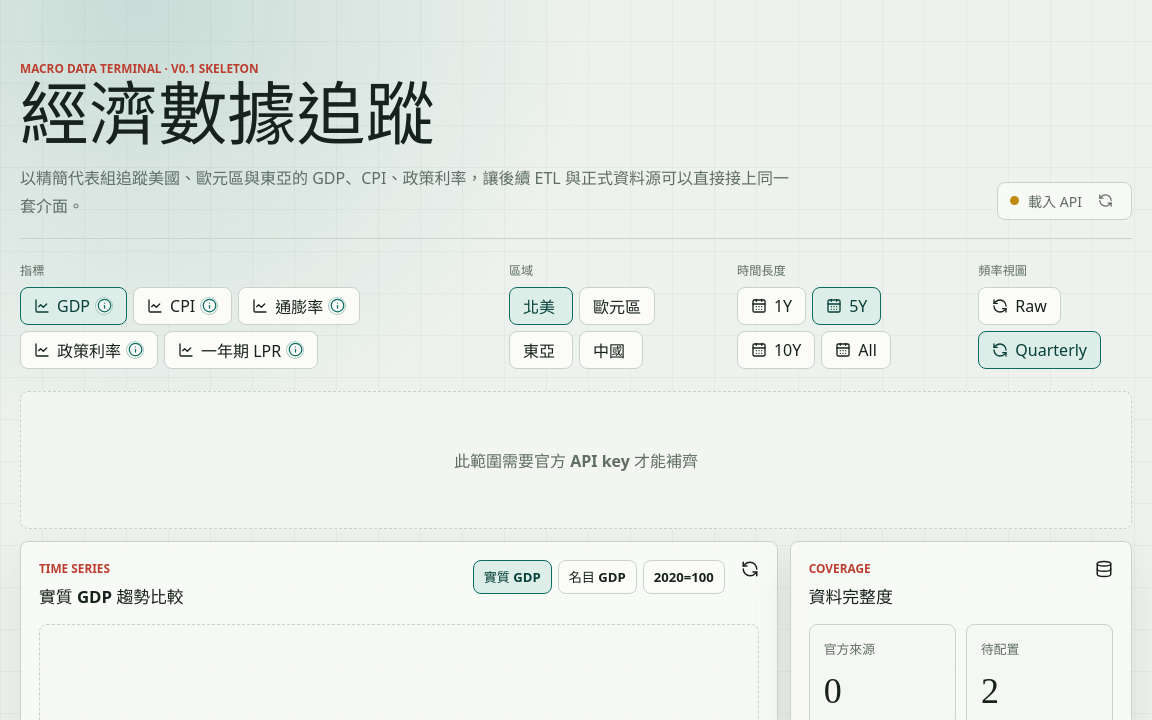
App › lets users switch the chart history range and frequency view
Click the button "1Y" at (772, 306), box [737,287,806,325]
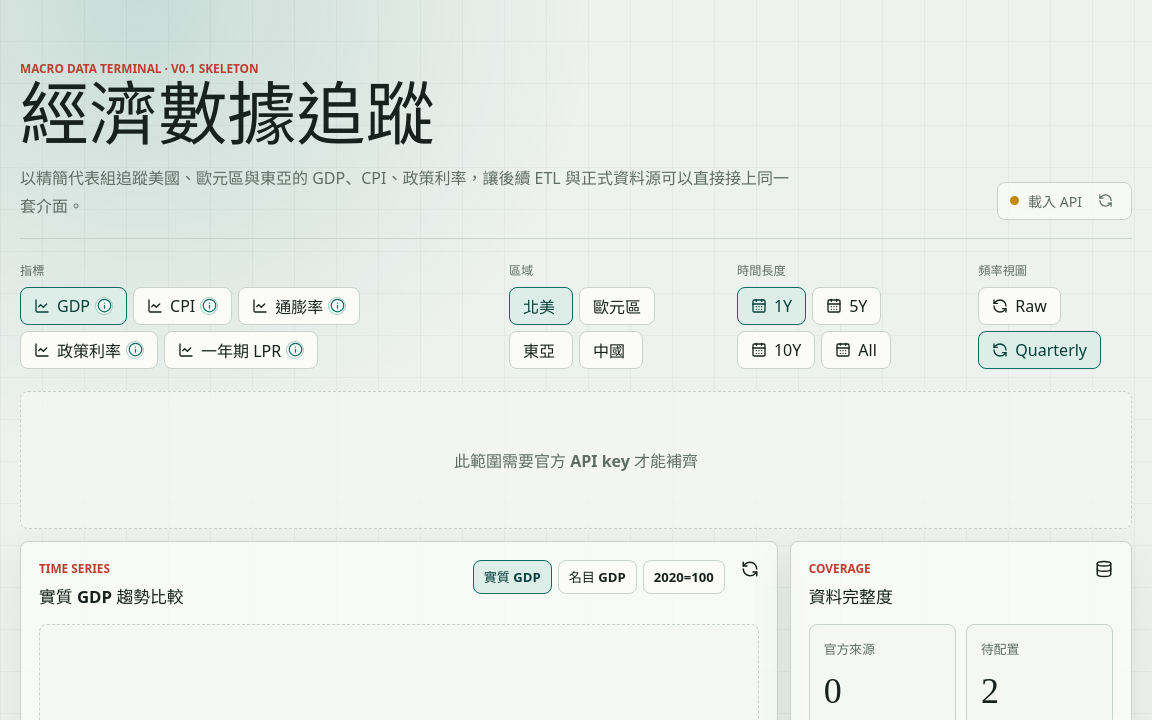
Click the button "Raw" at (1020, 306), box [978,287,1061,325]
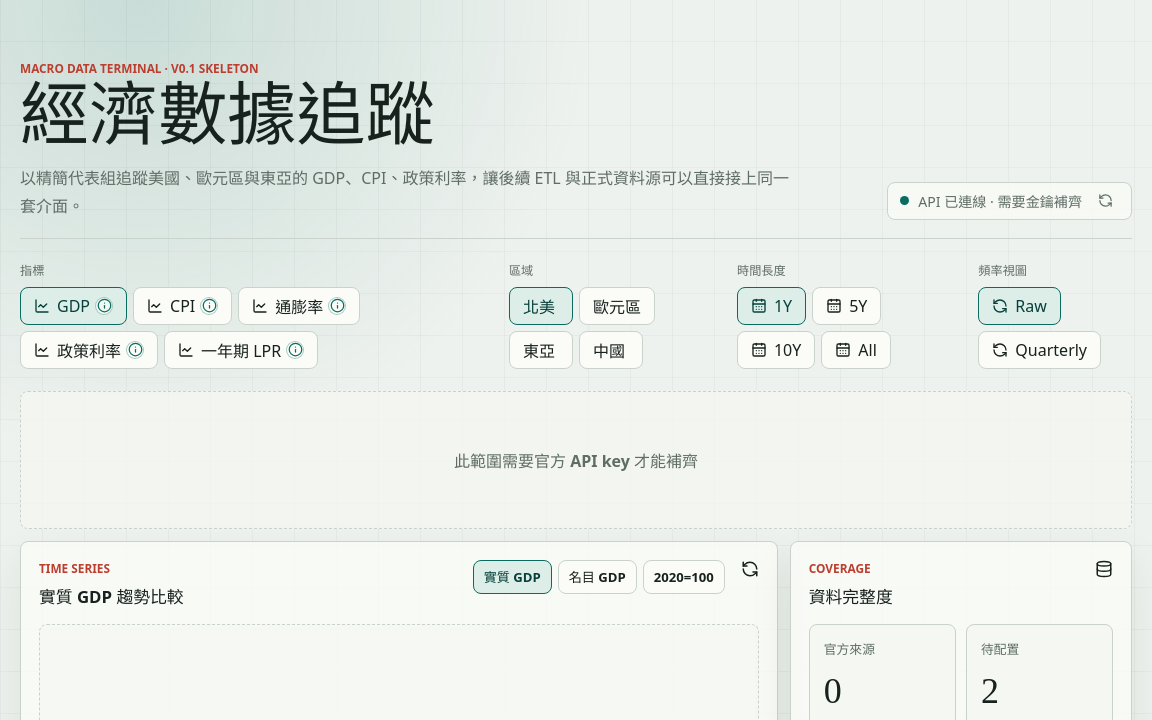
Check: the text "API 已連線 · 需要金鑰補齊" is shown, box [918,192,1082,211]
